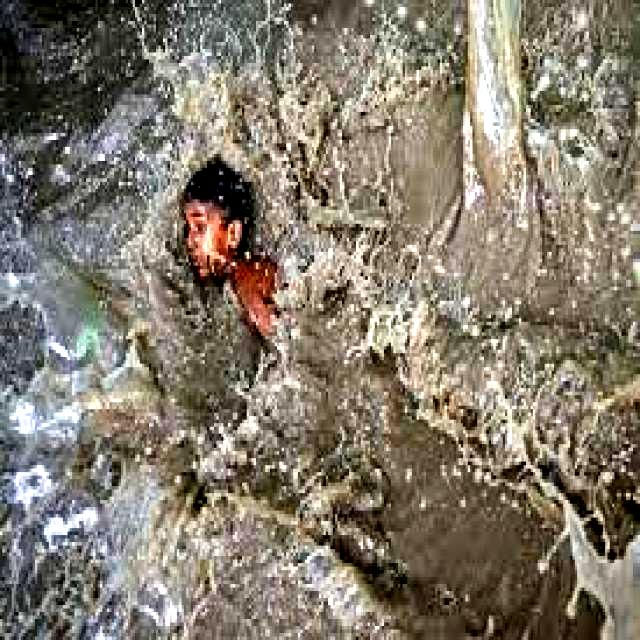civilian: (162, 151, 314, 354)
